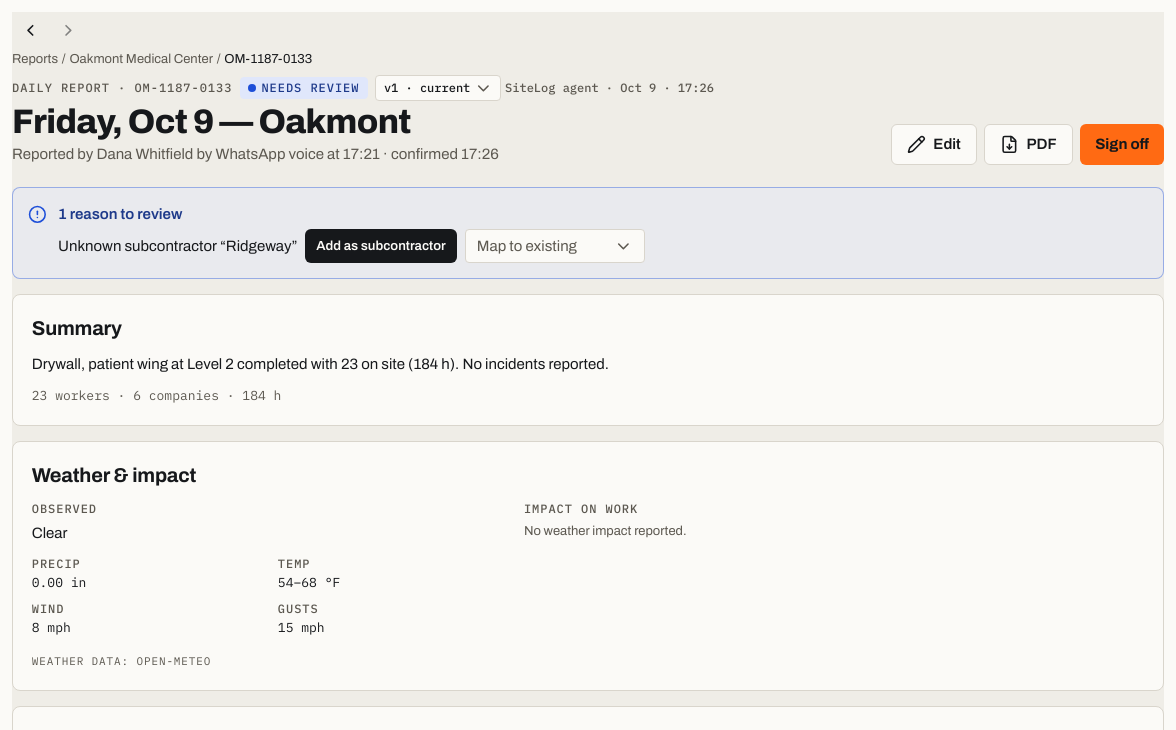
Test: ReportDetailPage (hero report RL-2041-0187) › resolves the unknown Ridgeway company on the Oakmont report and clears the banner
This screenshot has width=1176, height=730.
Expected: the heading "Friday, Oct 9 — Oakmont" is shown, [12,103,411,140]
Expected: the element "1 reason to review" shows "Unknown subcontractor “Ridgeway”", [58,238,298,254]
What coordinates should you click on to do the following:
click the button "Add as subcontractor"
I would click on:
 (381, 246)
Its box is [305,229,457,263].
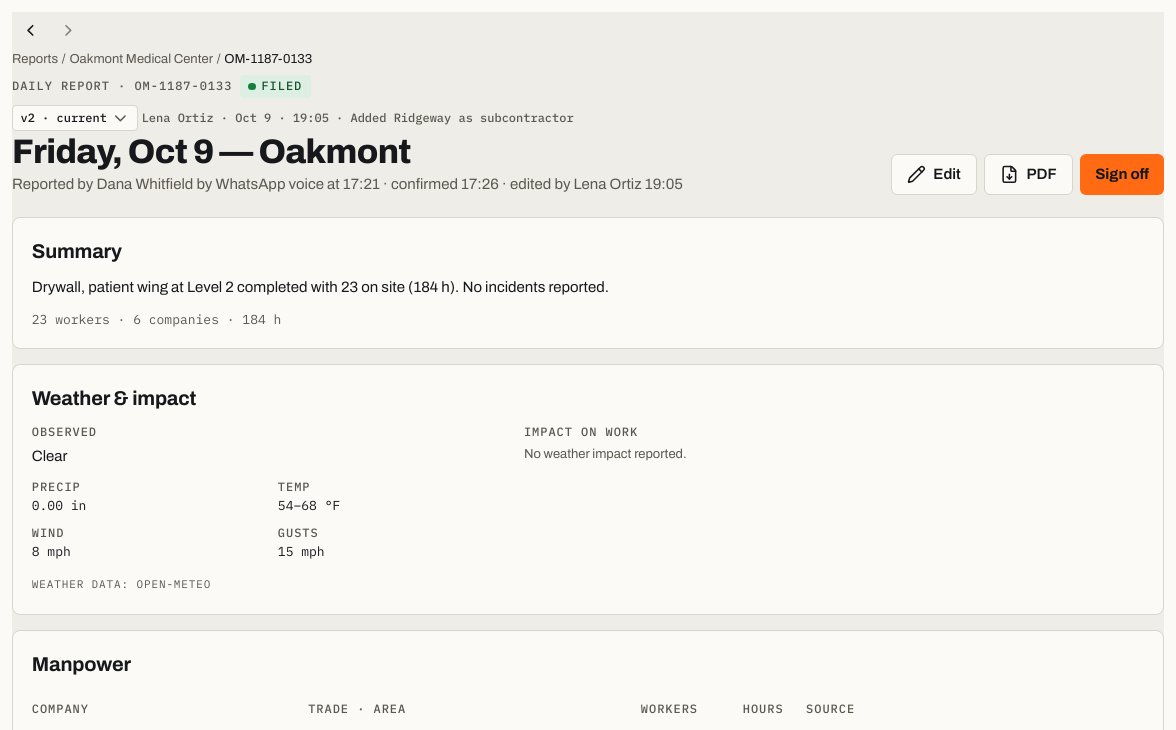
Expected: the text "reason to review" is gone
Expected: the element named "Status: Filed" is shown, [240,75,311,98]
